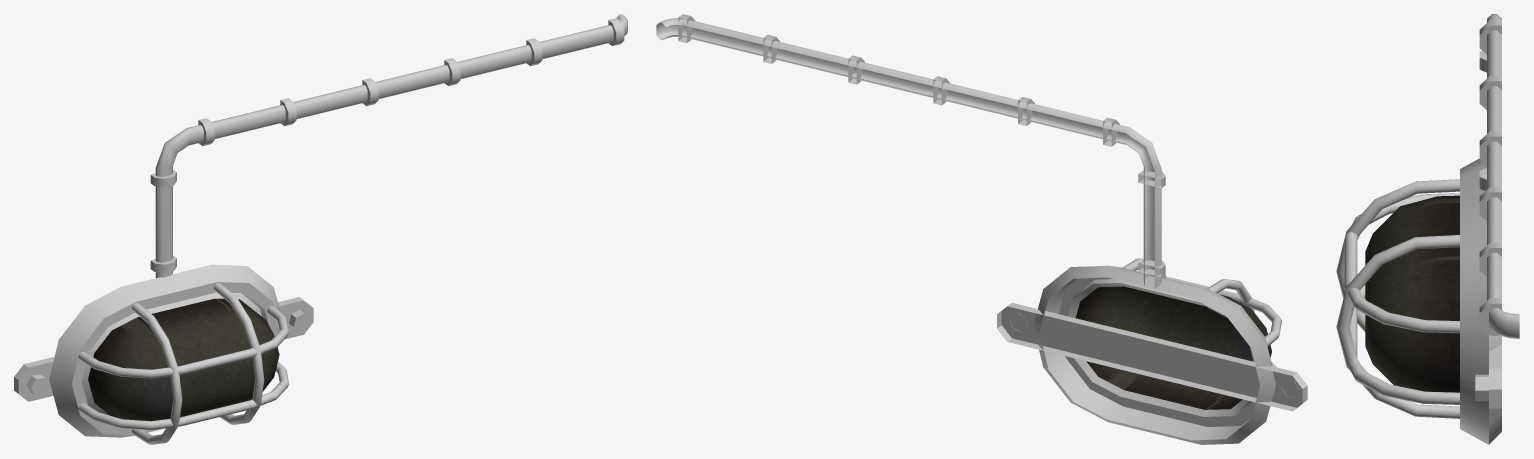
The model's file is lamp_1_off.fbx.
3 views of the same model, side by side, from view 1: azimuth 30°, elevation 25°; view 2: azimuth 150°, elevation 25°; view 3: azimuth 270°, elevation 25° (orthographic). The views are drawn at different scales.
Parts seen in each view (by area): view 1: lamp_1_off; view 2: lamp_1_off; view 3: lamp_1_off.
Boxes of the visible parts, box(x1,y1,x2,y2) form: lamp_1_off: box(14, 14, 627, 444); lamp_1_off: box(656, 14, 1307, 444); lamp_1_off: box(1336, 14, 1519, 444).
Bounding box in the file's own units: 0.7532 × 0.1393 × 0.343.
